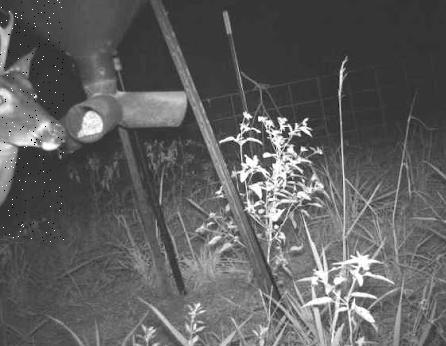Deer: (0, 0, 64, 242)
